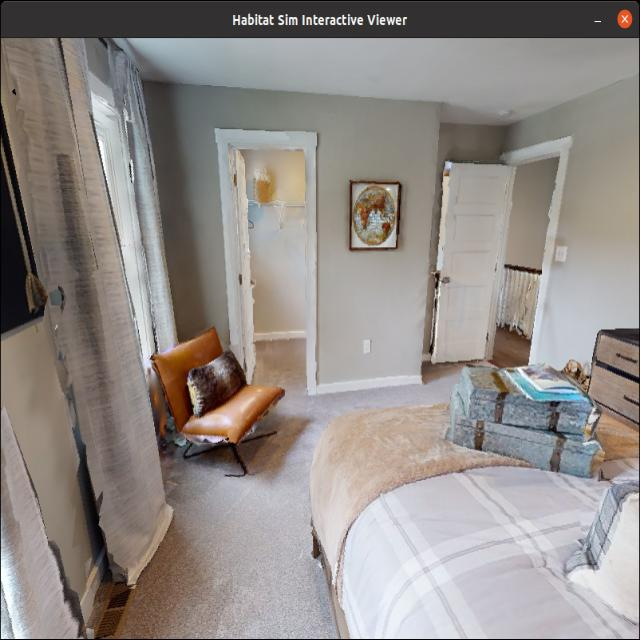bed: (296, 347, 640, 640)
door: (436, 149, 506, 371)
door-frame: (216, 129, 334, 393), (480, 129, 584, 373)
sofa: (144, 315, 289, 492)
